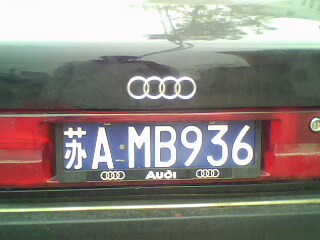plate_number: (60, 122, 254, 167)
